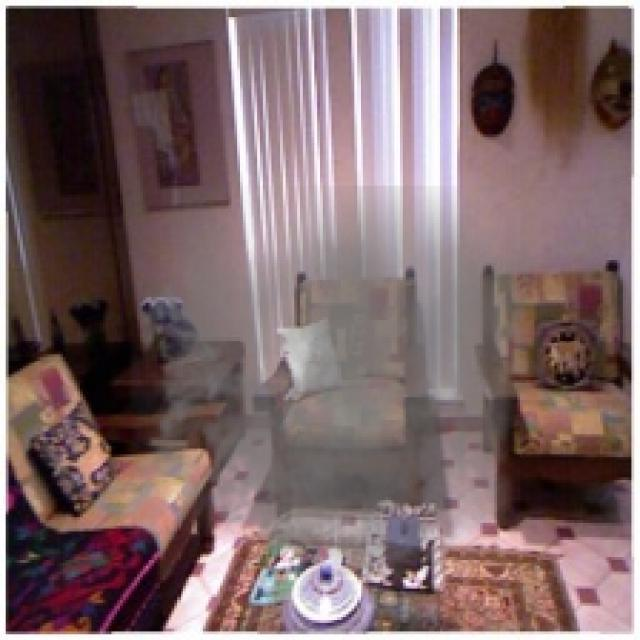Smoke: (128, 185, 538, 606)
